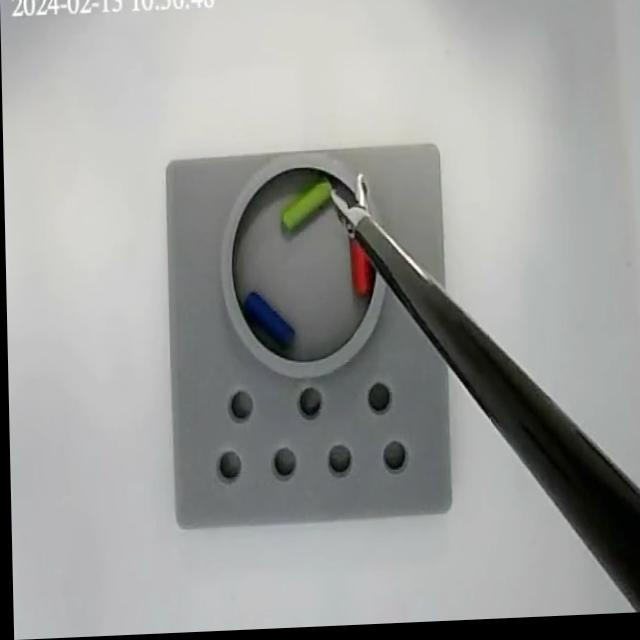EmptyHole: (373, 437, 408, 481), (290, 384, 324, 427), (220, 385, 252, 428), (363, 376, 392, 423), (212, 447, 240, 490), (266, 446, 296, 485), (321, 445, 351, 482)
